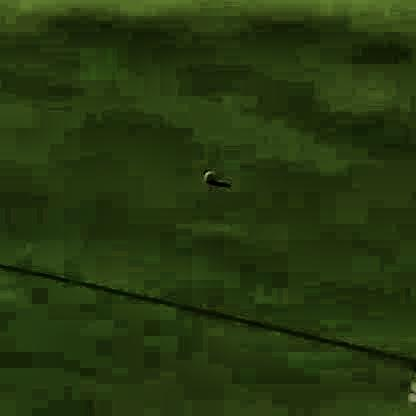golfball: (201, 163, 212, 179)
